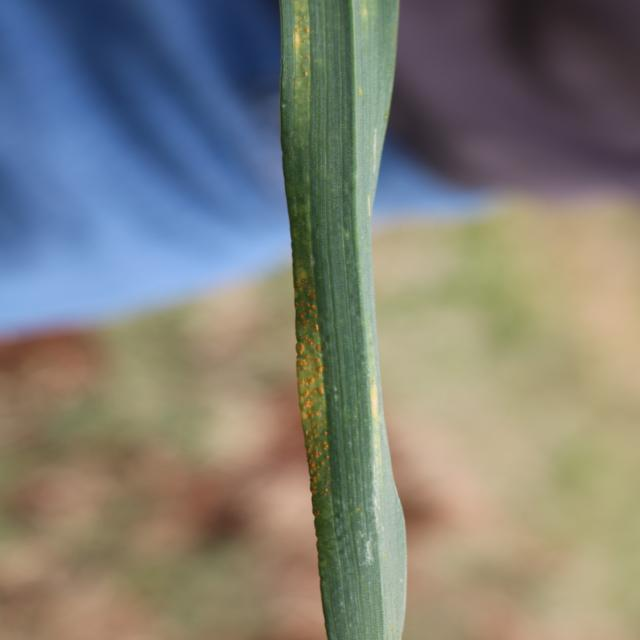Stripe Rust: (299, 329, 337, 477)
